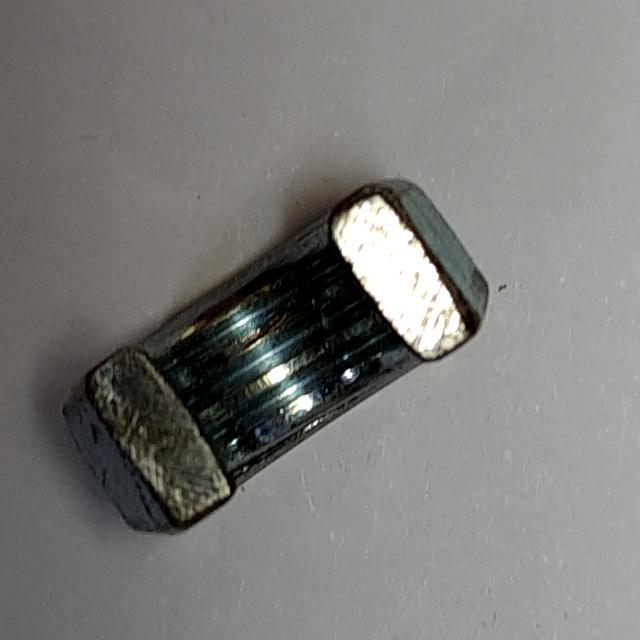Side-Fracture: (49, 164, 500, 558)
